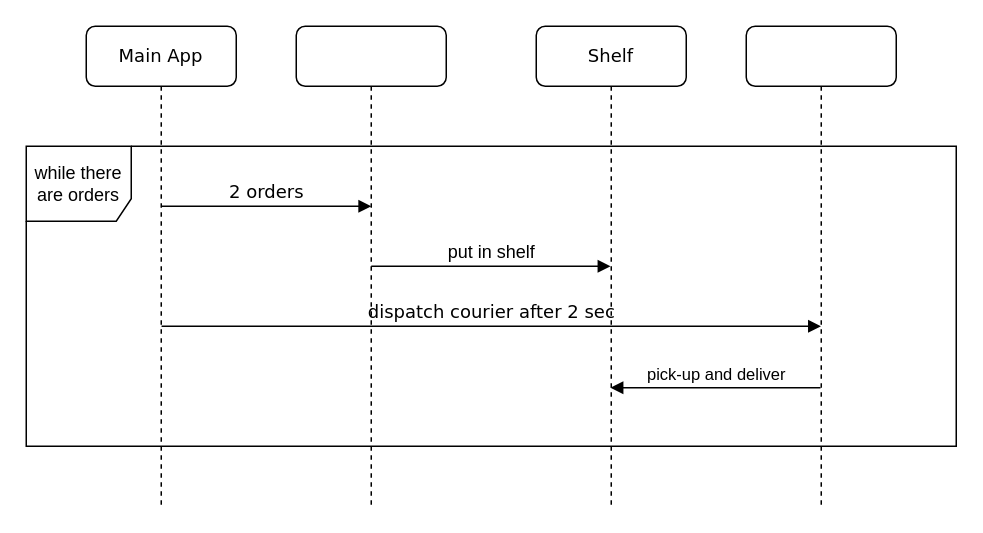
Image size: 983x533. Some labels were removed from this diagram. Here are the shapes that lost their labels. From the top down, the box of each, then its label:
(295, 25, 446, 506): Kitchen
(745, 25, 896, 506): Courier
